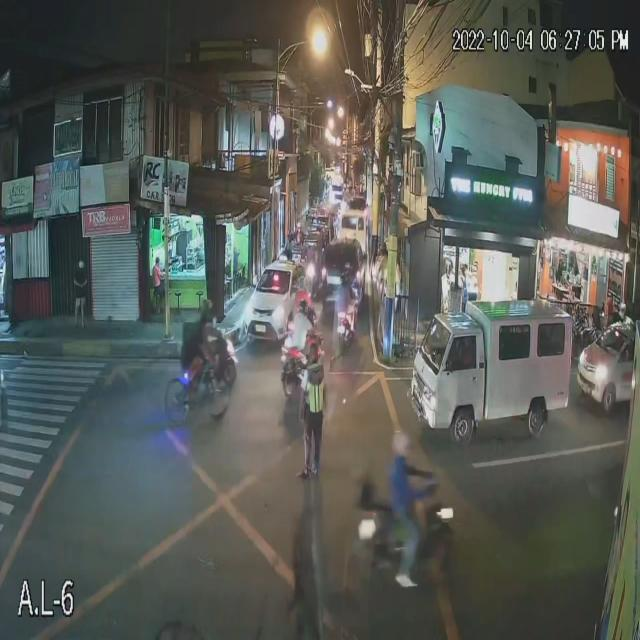Full-Faced: (390, 422, 414, 454), (197, 294, 218, 323), (297, 292, 312, 316)
